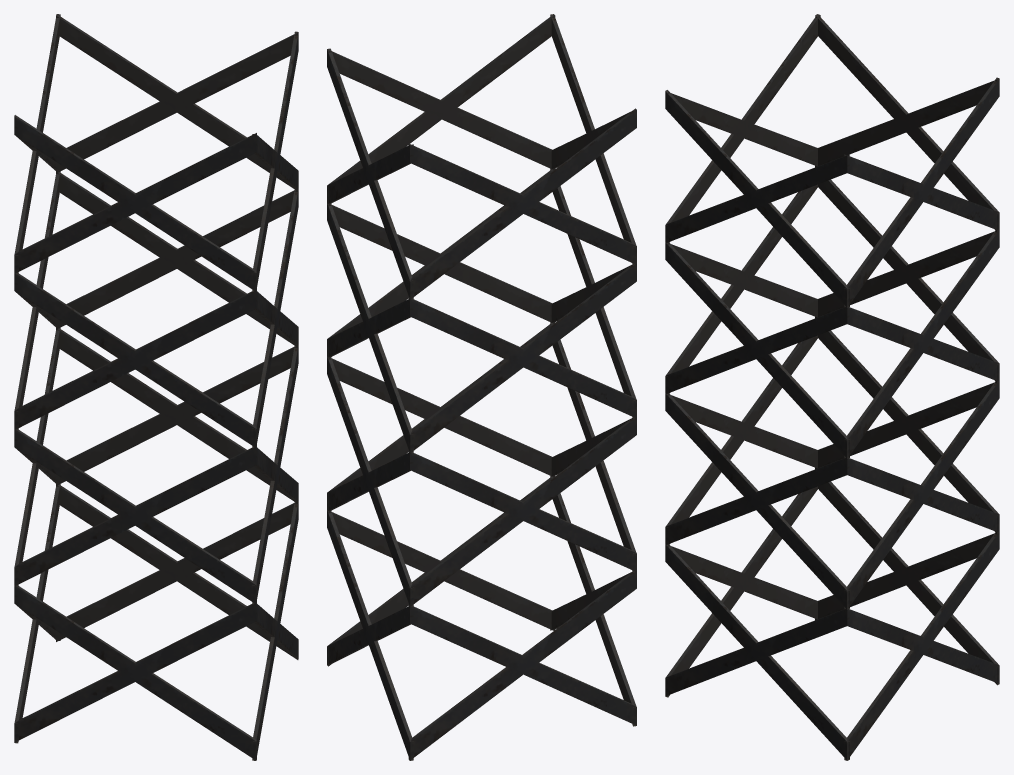
The model's file is TowerBeam.gltf.
The picture shows the model from 3 angles, left to right: view 1: azimuth 30°, elevation 25°; view 2: azimuth 150°, elevation 25°; view 3: azimuth 270°, elevation 25°; orthographic projection. The views are drawn at different scales.
Parts seen in each view (by area): view 1: TowerBeam; view 2: TowerBeam; view 3: TowerBeam.
Part boxes in pixels (bbox=[...]): TowerBeam: bbox=[14, 14, 298, 760]; TowerBeam: bbox=[327, 14, 636, 760]; TowerBeam: bbox=[665, 14, 999, 760].
Size of the model in its own units: 2.75 by 5.49 by 2.75.
Materials: 1 (1 with a texture image).
